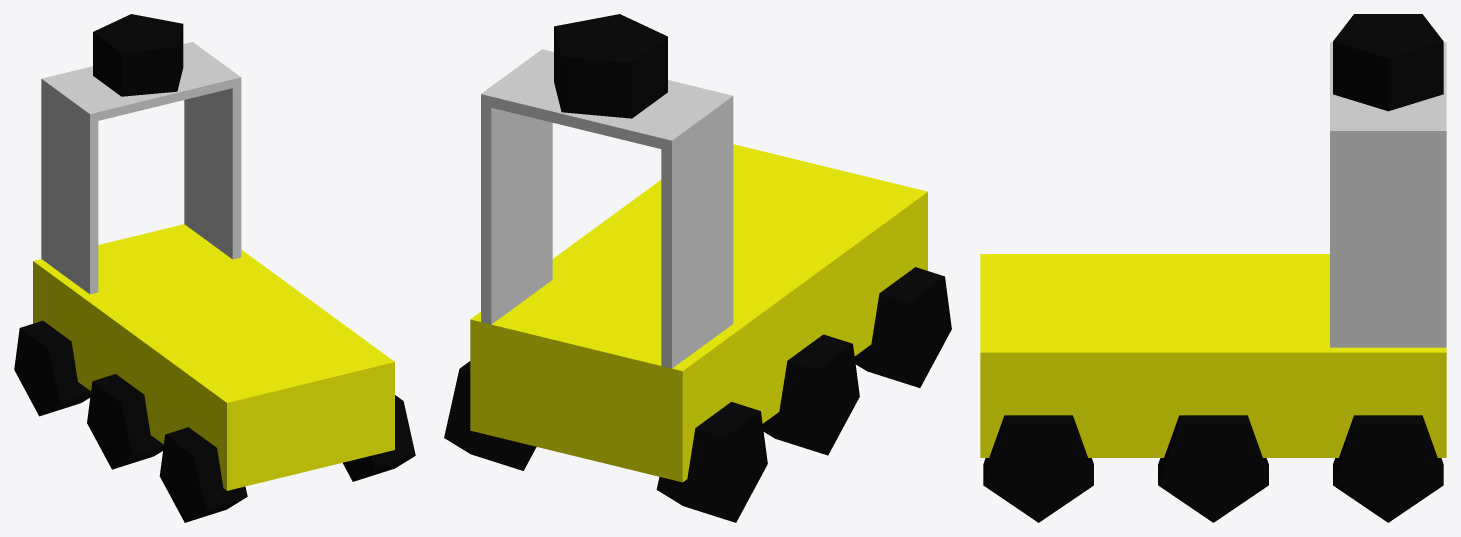
Rendered from UGV.dae.
3 views of the same model, side by side, from view 1: azimuth 30°, elevation 25°; view 2: azimuth 150°, elevation 25°; view 3: azimuth 270°, elevation 25° (orthographic). The views are drawn at different scales.
Visible parts, largest first — view 1: base_link, base_link2, base_link1, velodyne, base_link3, wheel_4, wheel_5, wheel_2, wheel_3; view 2: base_link, base_link2, base_link1, velodyne, base_link3, wheel_2, wheel_4, wheel_5, wheel_1; view 3: base_link, base_link1, velodyne, wheel_6, wheel_1, wheel_3, base_link3.
Part boxes in pixels (x1,y1,x2,y2): base_link: (33,224,394,490); base_link2: (41,87,98,294); base_link1: (184,82,241,259); velodyne: (93,14,183,96); base_link3: (41,42,241,122); wheel_4: (159,427,247,522); wheel_5: (87,374,163,469); wheel_2: (14,320,90,416); wheel_3: (343,395,415,481); base_link: (470,144,927,482); base_link2: (661,102,733,368); base_link1: (481,100,552,324); velodyne: (554,14,667,118); base_link3: (481,49,733,151); wheel_2: (656,402,767,522); wheel_4: (854,267,951,387); wheel_5: (762,334,859,455); wheel_1: (444,361,536,470); base_link: (980,254,1446,457); base_link1: (1330,136,1446,347); velodyne: (1333,14,1443,111); wheel_6: (1158,415,1268,522); wheel_1: (1333,415,1443,522); wheel_3: (983,415,1093,522); base_link3: (1330,42,1446,141).
Size of what is drawn, in the model's own units: 0.2563 by 0.4 by 0.4066.
